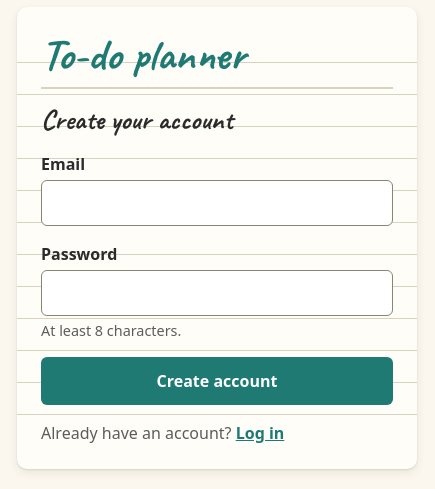
Scenario: US1 Register › links to the login page
Click the link "Log in" at {"x": 260, "y": 433}, box [236,422,284,444]
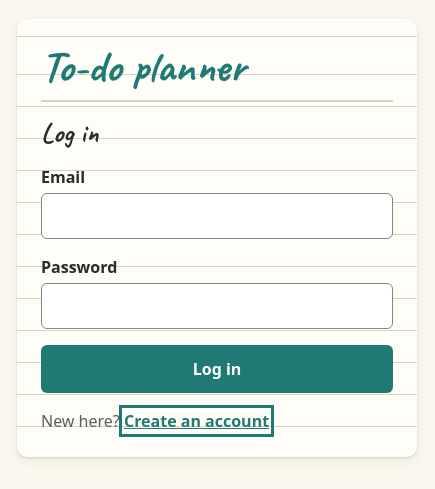
Expected: the heading "Log in" is shown, [41,115,98,150]
